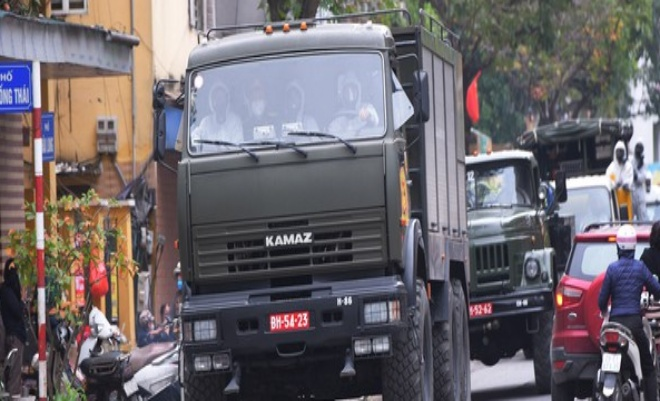plate: (265, 310, 307, 331), (601, 353, 624, 374), (463, 302, 496, 316)
